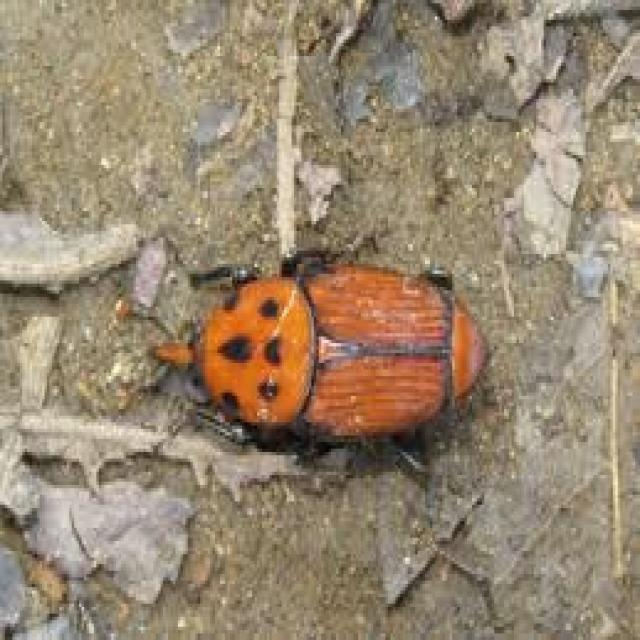Red-palm-weevil: (111, 245, 497, 459)
